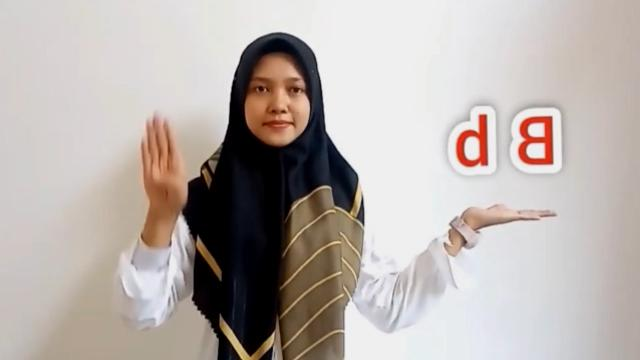B: (141, 114, 189, 216)
